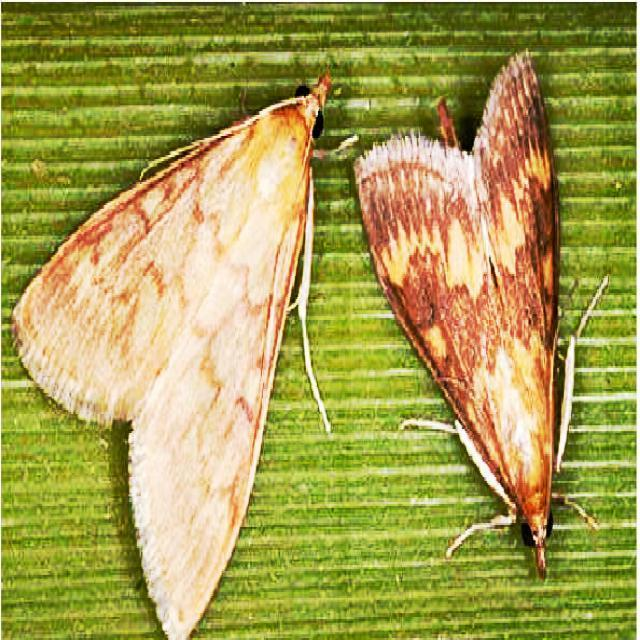stem-borer: (12, 67, 338, 640), (351, 45, 606, 586)
